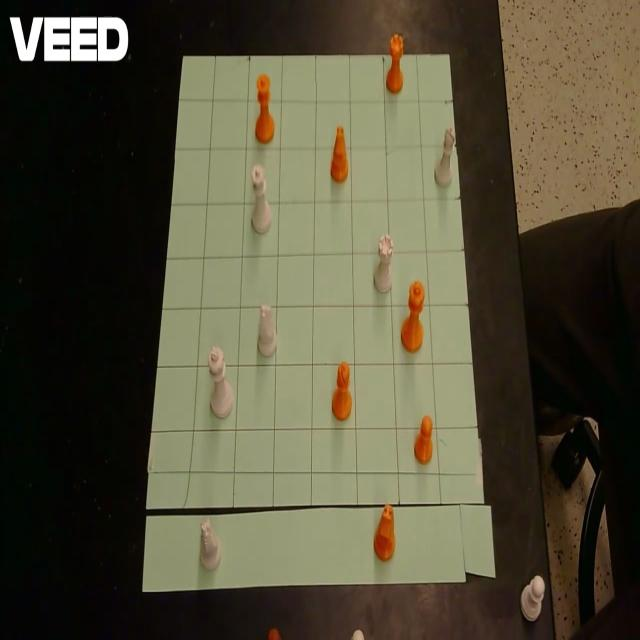orange_bishop: (332, 360, 352, 420)
orange_king: (400, 280, 425, 352)
orange_knight: (374, 503, 396, 561), (331, 126, 348, 182), (267, 628, 281, 640)
orange_pawn: (414, 414, 433, 464)
orange_queen: (255, 74, 274, 143)
orange_rook: (386, 33, 404, 94)
white_bishop: (435, 124, 456, 187)
white_king: (208, 346, 234, 419)
white_knight: (200, 517, 222, 571), (258, 303, 277, 357)
white_pawn: (520, 575, 546, 621), (351, 629, 364, 640)
white_queen: (250, 163, 272, 234)
white_rook: (374, 232, 394, 292)
